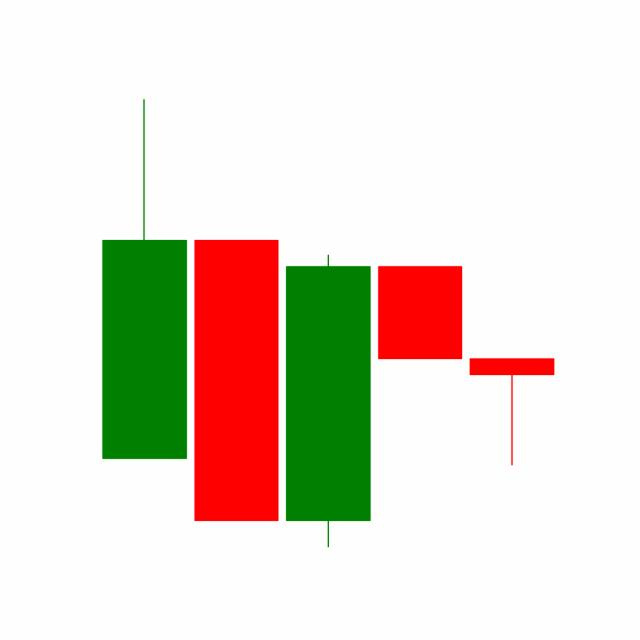Hammer: (464, 356, 558, 466)
